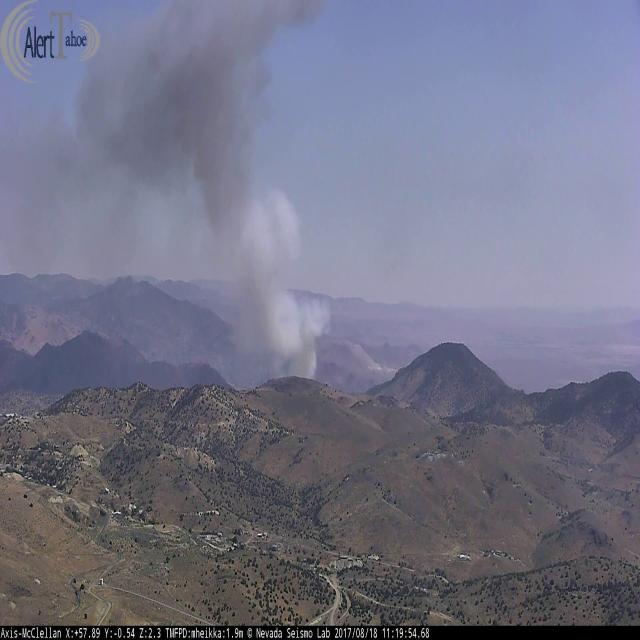smoke: (102, 0, 344, 415)
